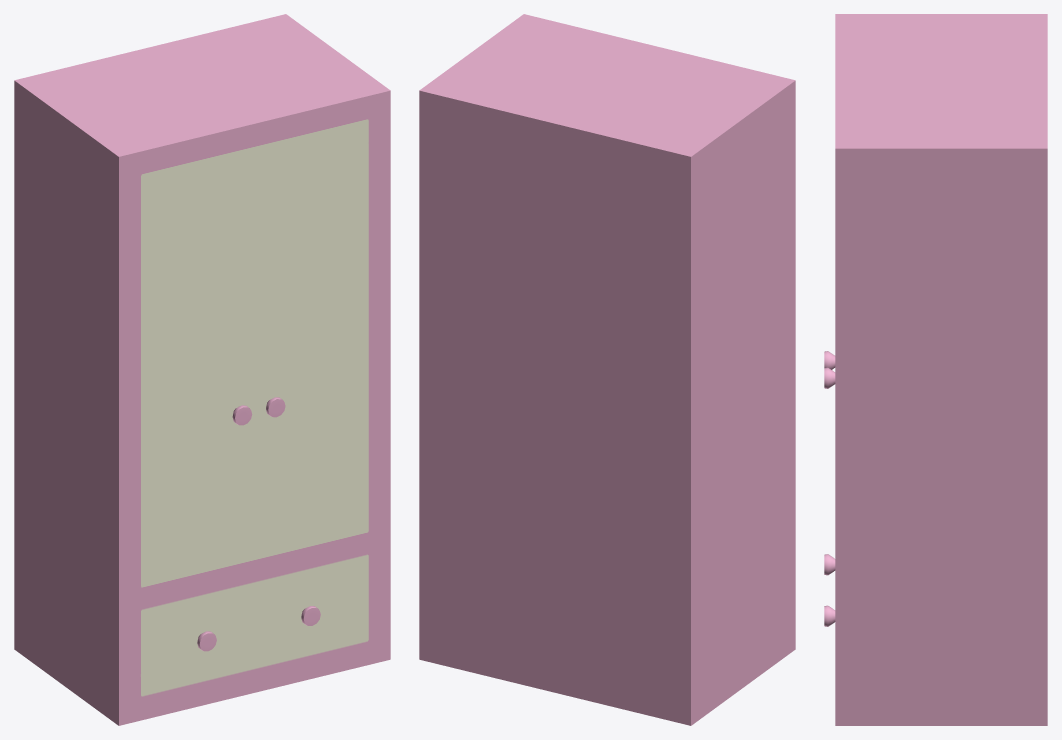
File: closet2_pink.glb
3 views of the same model, side by side, from view 1: azimuth 30°, elevation 25°; view 2: azimuth 150°, elevation 25°; view 3: azimuth 270°, elevation 25° (orthographic).
Parts seen in each view (by area): view 1: Box002; view 2: Box002; view 3: Box002.
Boxes of the visible parts, left/top/right/bottom form: Box002: left=14, top=14, right=390, bottom=725; Box002: left=419, top=14, right=795, bottom=725; Box002: left=824, top=14, right=1047, bottom=725.
Size of the model in its own units: 0.12 by 0.24 by 0.0842.
Materials: 1 (1 with a texture image).
